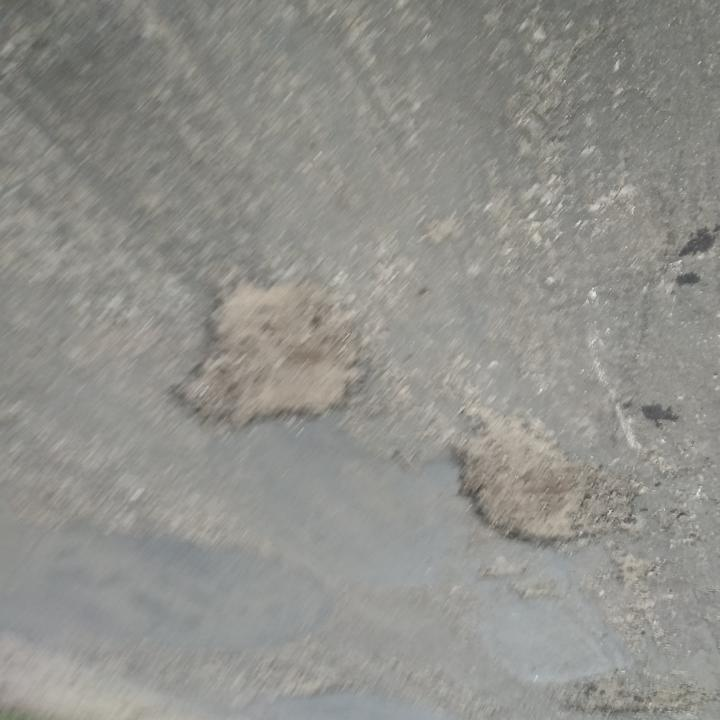pothole: (158, 271, 377, 439), (444, 400, 622, 552), (551, 672, 705, 719)
